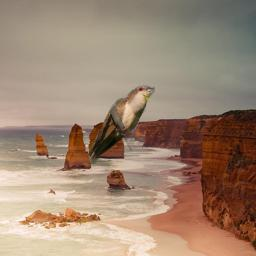Cuckoo: (86, 85, 155, 166)
